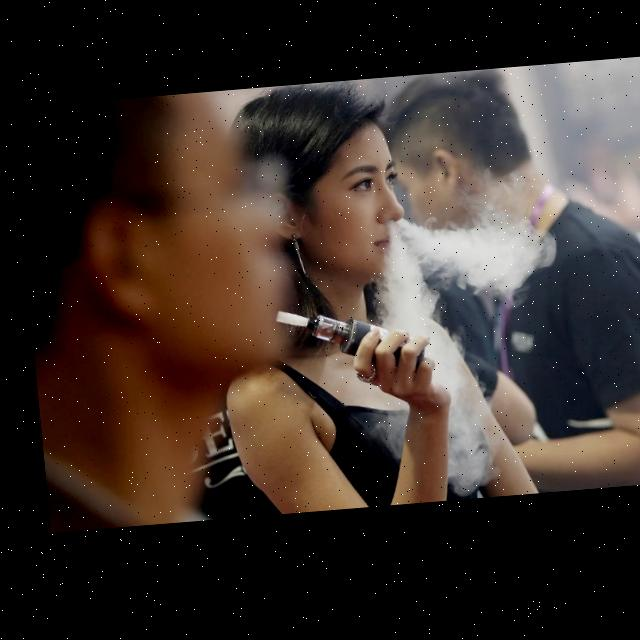vape: (268, 305, 419, 384)
